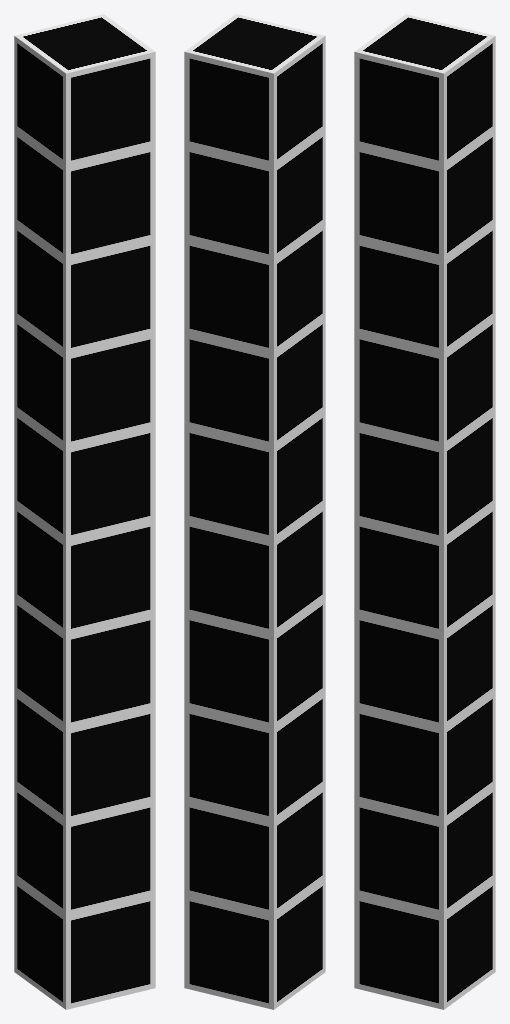
File: Arena_Cell.fbx
The picture shows the model from 3 angles, left to right: view 1: azimuth 30°, elevation 25°; view 2: azimuth 150°, elevation 25°; view 3: azimuth 330°, elevation 25°; orthographic projection.
Parts seen in each view (by area): view 1: Cube; view 2: Cube; view 3: Cube.
Boxes of the visible parts, x1=… form: Cube: x1=14, y1=14, x2=155, y2=1009; Cube: x1=184, y1=14, x2=325, y2=1009; Cube: x1=354, y1=14, x2=495, y2=1009.
Bounding box in the file's own units: 500 × 5000 × 500.
1 material, 1 textured.
